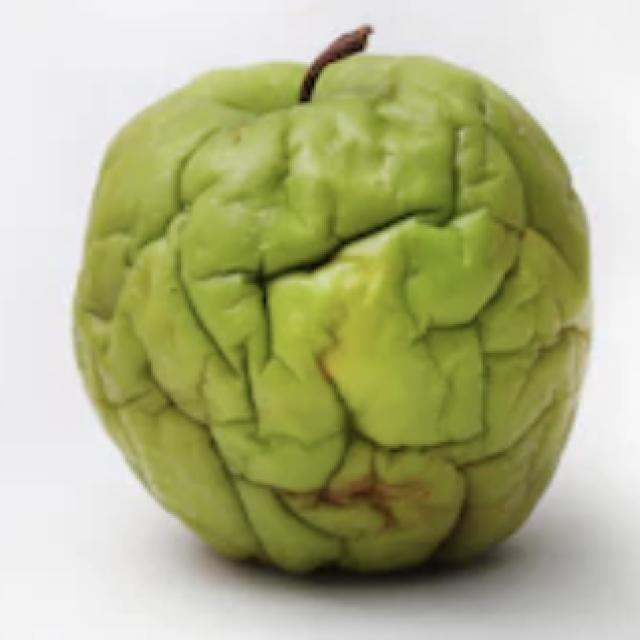Rotten: (65, 43, 602, 582)
